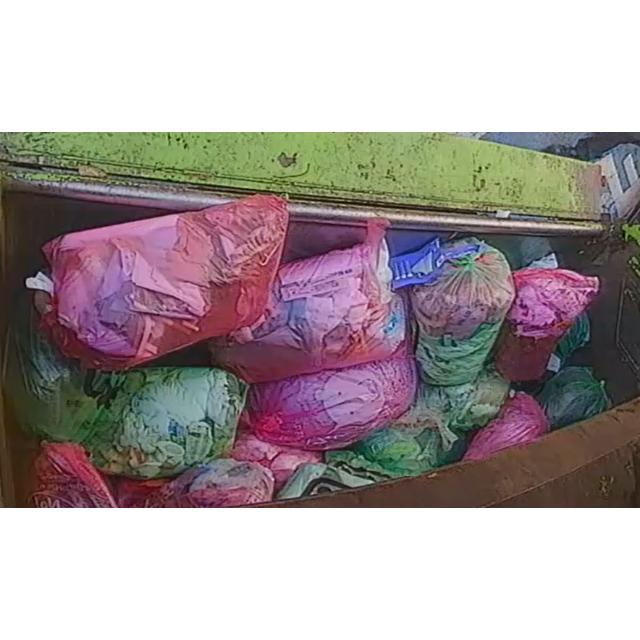general_trashbag: (11, 312, 248, 478), (410, 237, 515, 386)
other_trashbag: (42, 196, 289, 370), (211, 222, 408, 383), (248, 354, 416, 451), (494, 267, 598, 381), (145, 458, 274, 508), (462, 393, 548, 461), (30, 442, 116, 508)
